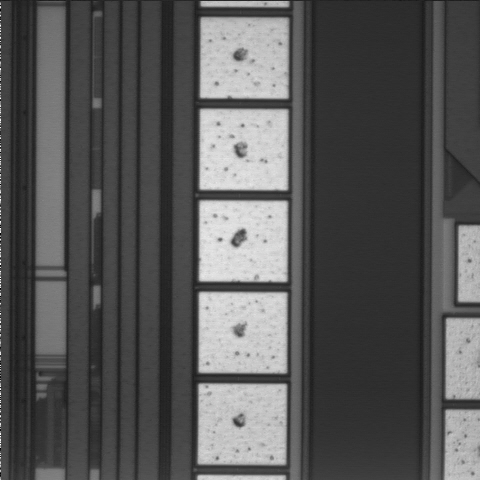pad: (200, 109, 288, 190), (199, 201, 287, 282), (199, 292, 287, 373), (200, 18, 288, 98), (198, 384, 286, 464)
